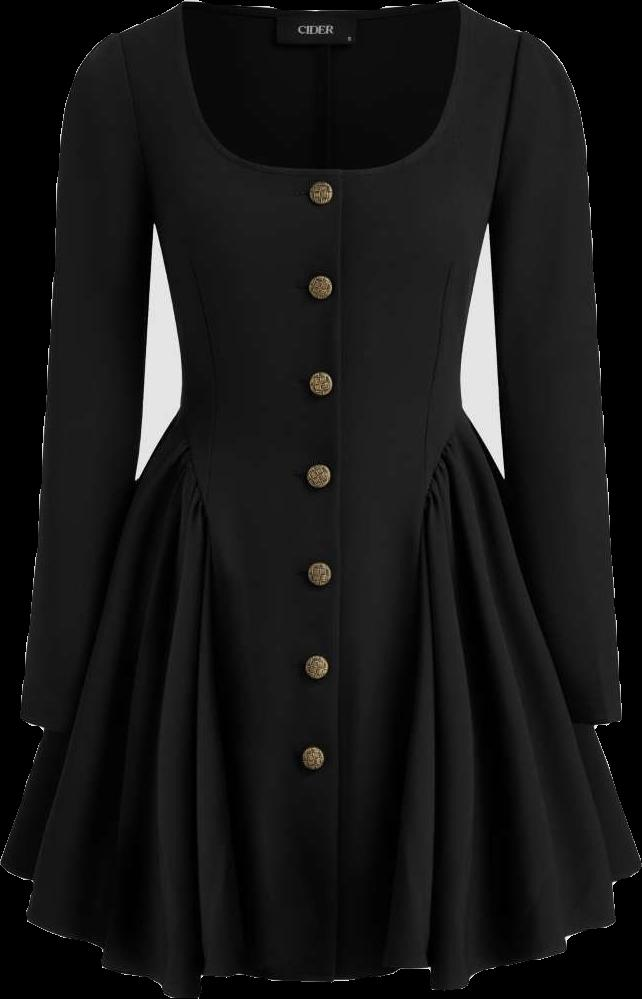Bodice: (116, 0, 526, 415)
Hemline: (0, 855, 249, 998), (388, 860, 641, 997)
Neckline: (177, 0, 469, 176)
Skirt: (1, 405, 641, 998)
Sleeve: (20, 32, 156, 727), (489, 30, 621, 728)
Sleeveline: (110, 30, 162, 236), (482, 30, 532, 224)
Waistline: (175, 415, 469, 987)
